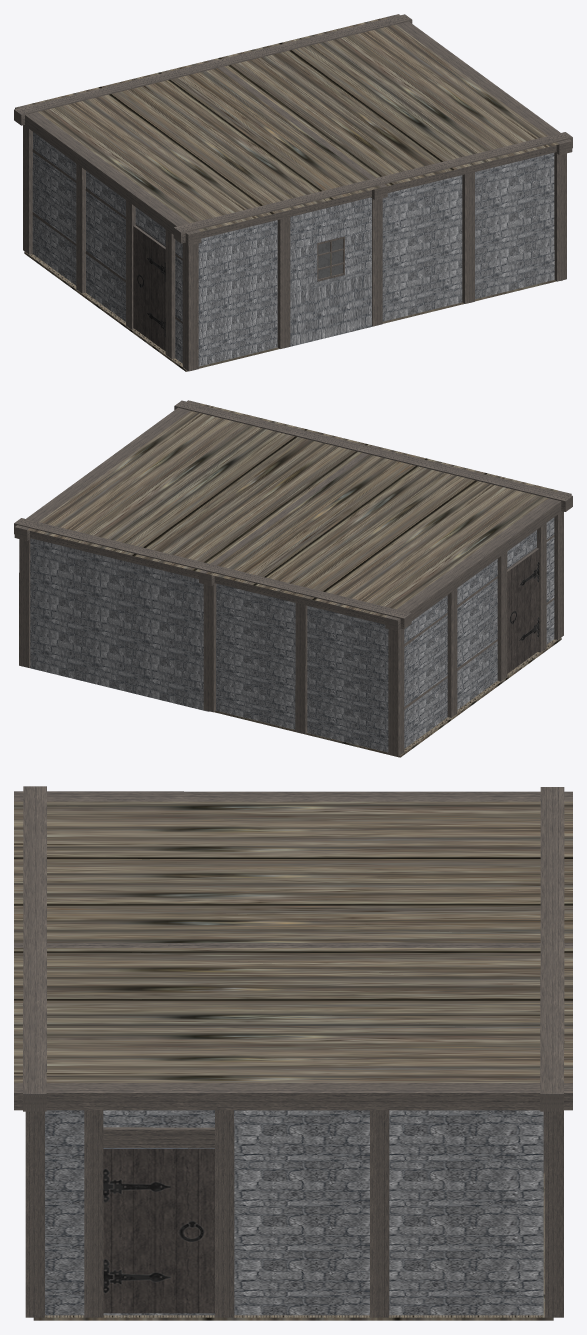
Rendered from 1ST INTERIOR.fbx.
3 renders of one model, top to bottom at view 1: azimuth 30°, elevation 25°; view 2: azimuth 150°, elevation 25°; view 3: azimuth 270°, elevation 25°, orthographic. The views are drawn at different scales.
Visible parts, largest first — view 1: Cube.057; view 2: Cube.057; view 3: Cube.057.
Part boxes in pixels (box(x1,y1,x2,y2)): Cube.057: box(14, 14, 572, 371); Cube.057: box(14, 400, 572, 757); Cube.057: box(14, 786, 572, 1320).
Bounding box in the file's own units: 2865 × 1003 × 2199.
9 materials, 9 textured.
